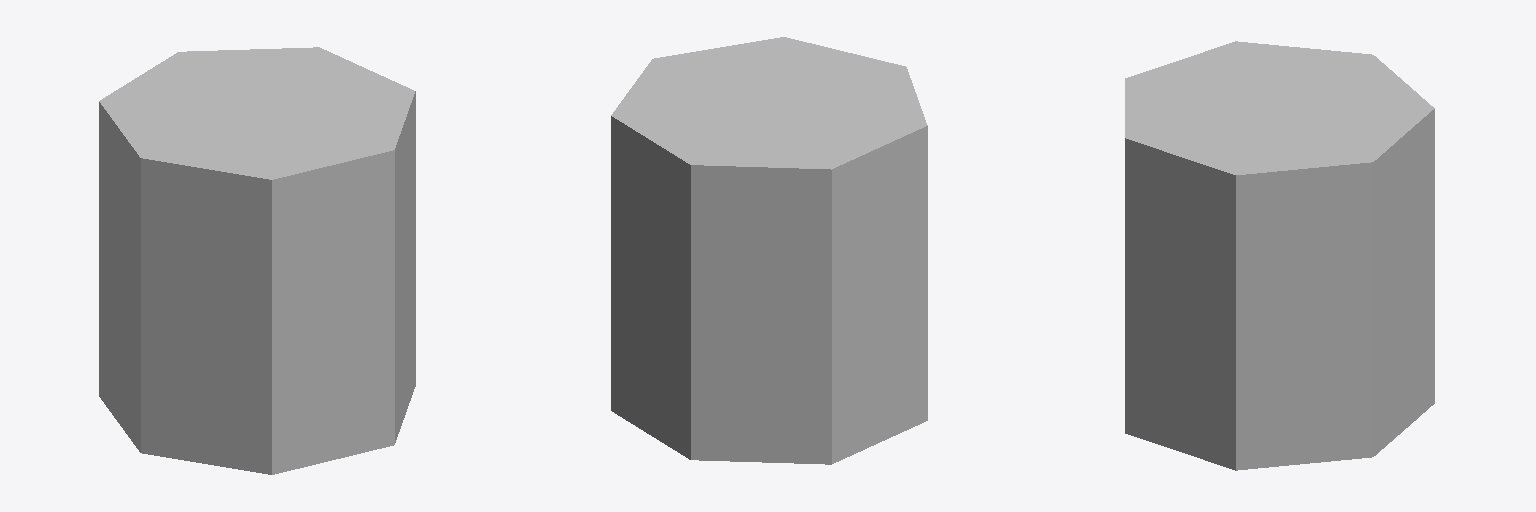
Rendered from debug-cylinder.obj.
3 views of the same model, side by side, from view 1: azimuth 30°, elevation 25°; view 2: azimuth 150°, elevation 25°; view 3: azimuth 270°, elevation 25° (orthographic).
Visible parts, largest first — view 1: debug_cylinder; view 2: debug_cylinder; view 3: debug_cylinder.
Boxes of the visible parts, box(x1,y1,x2,y2) form: debug_cylinder: box(99, 47, 415, 474); debug_cylinder: box(611, 37, 927, 464); debug_cylinder: box(1125, 41, 1434, 470).
Bounding box in the file's own units: 0.9749 × 1 × 0.9505.